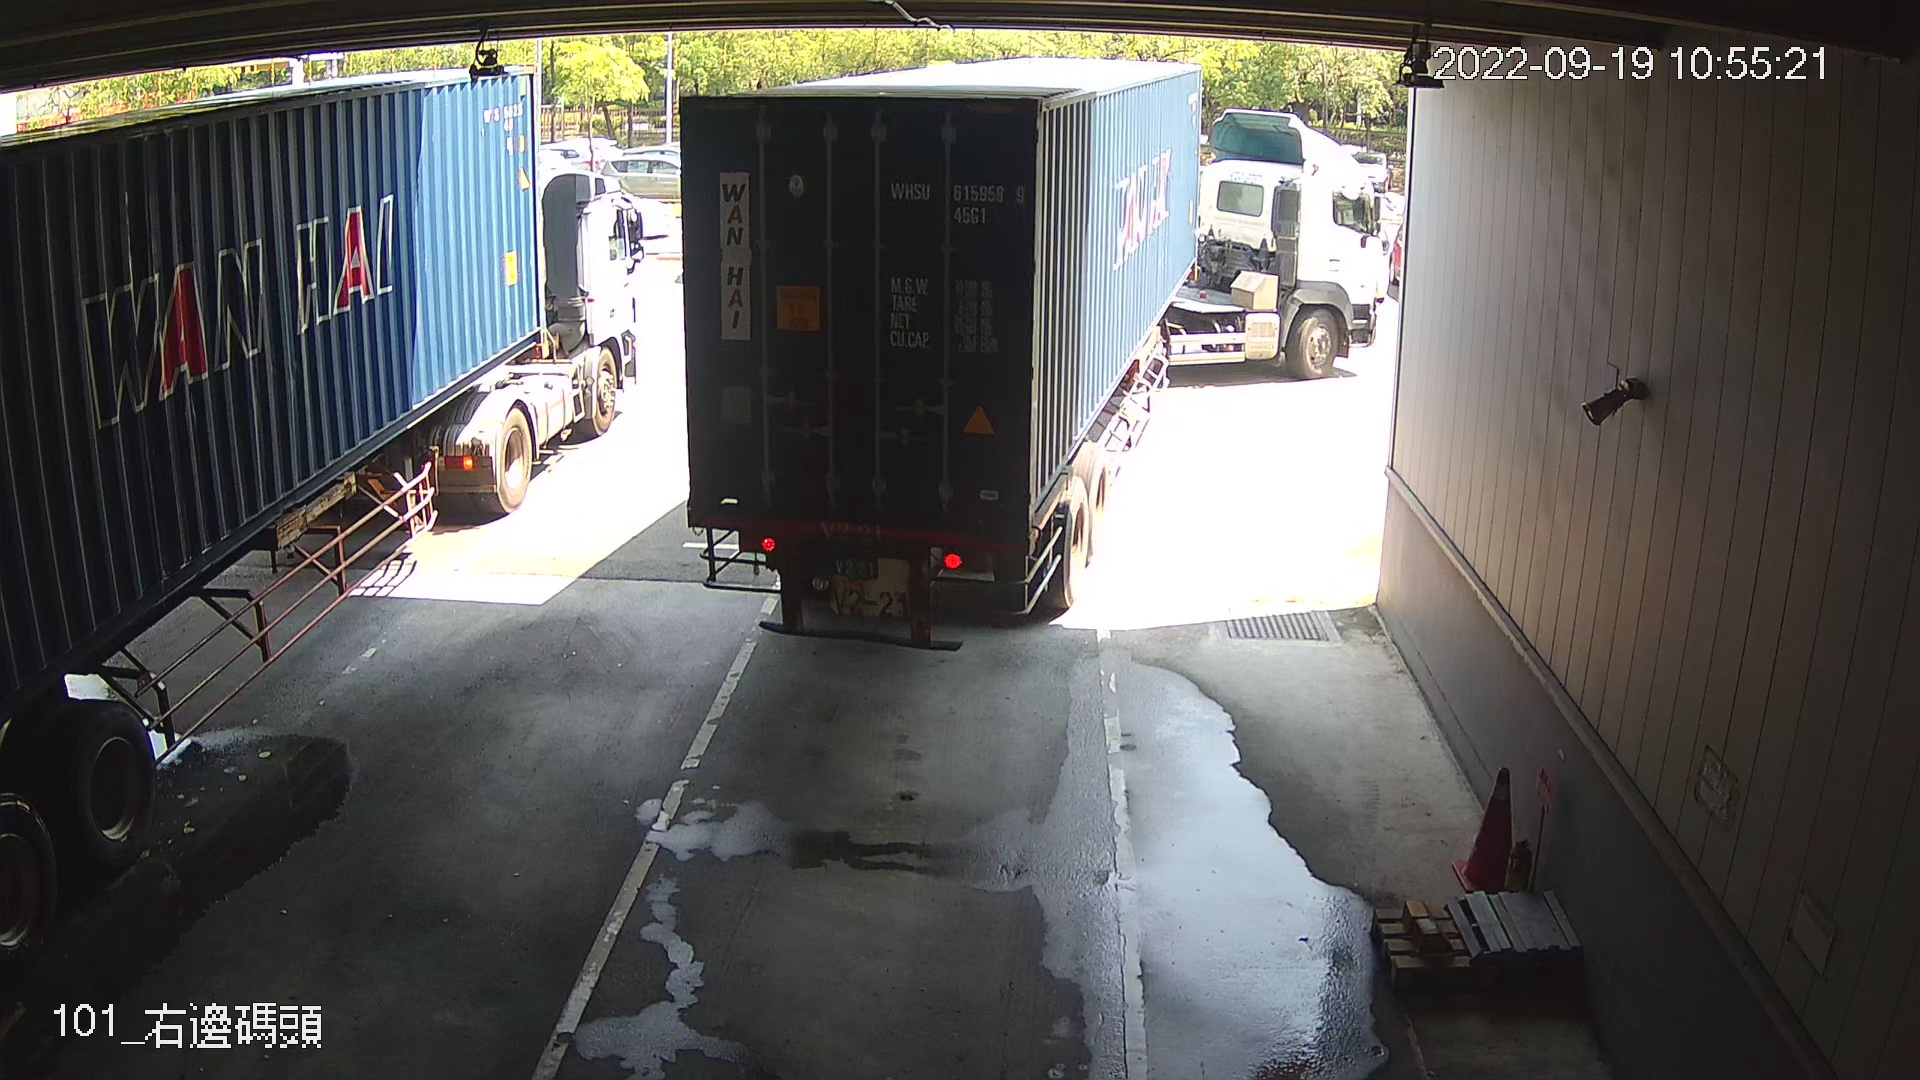container: (887, 173, 1031, 233)
